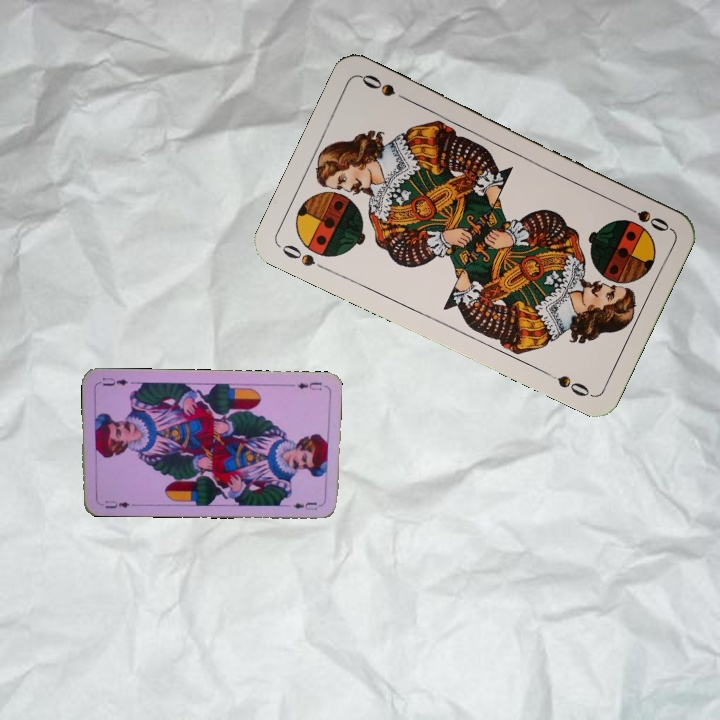EU: (94, 496, 135, 511), (293, 378, 324, 393)
SO: (617, 199, 672, 234), (277, 240, 331, 274)
